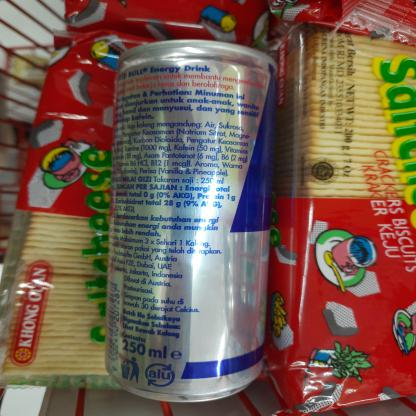mouse: (97, 35, 283, 407)
